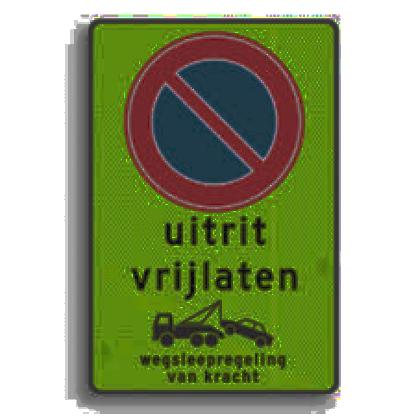No parking: (120, 26, 314, 212)
